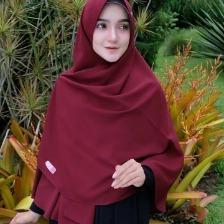HijabSyar-i: (26, 0, 186, 224)
